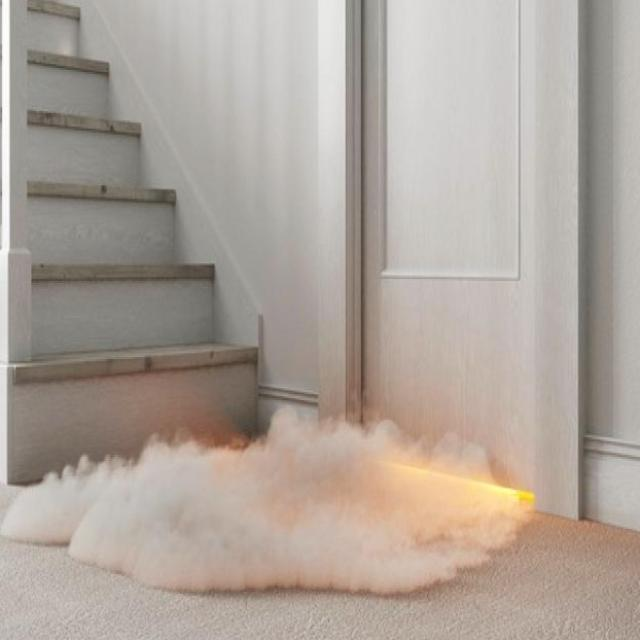fire: (0, 402, 533, 597)
